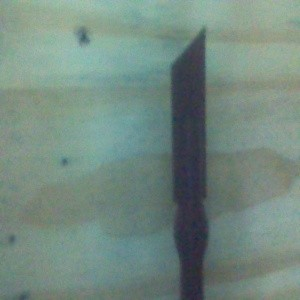cutter: (169, 24, 210, 300)
